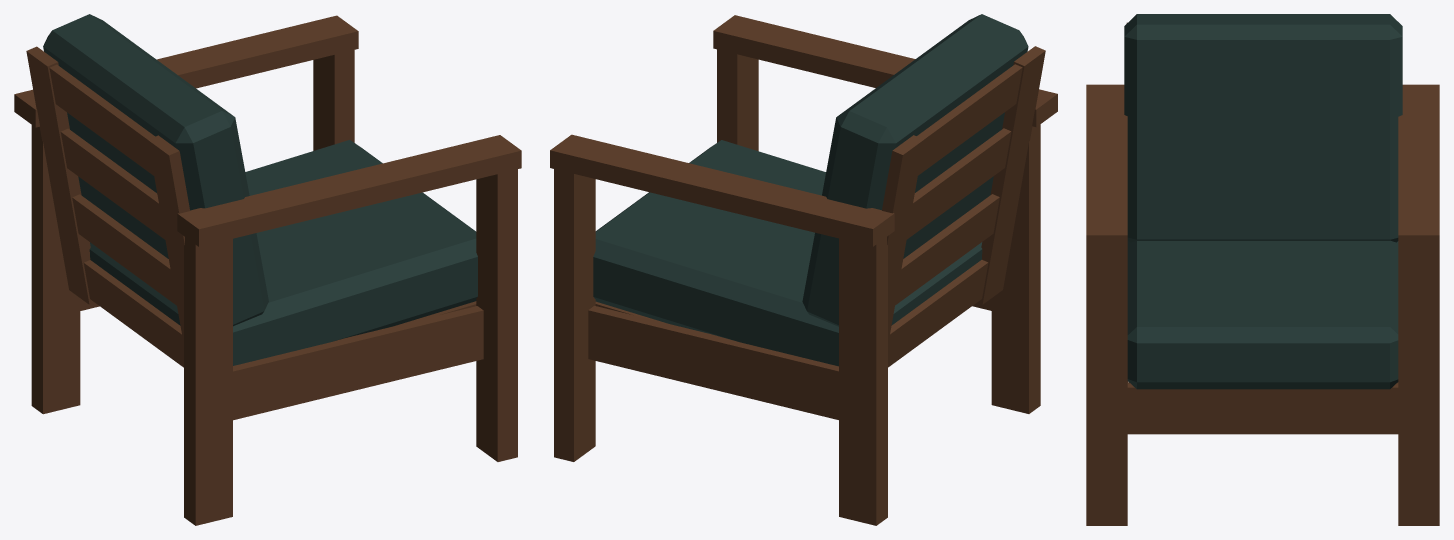
Rendered from SM_Armachair_03.glb.
The picture shows the model from 3 angles, left to right: view 1: azimuth 30°, elevation 25°; view 2: azimuth 150°, elevation 25°; view 3: azimuth 270°, elevation 25°; orthographic projection. The views are drawn at different scales.
Parts seen in each view (by area): view 1: SM_Armachair_03; view 2: SM_Armachair_03; view 3: SM_Armachair_03.
Boxes of the visible parts, x1,y1,x2,y2 form: SM_Armachair_03: (14, 14, 521, 525); SM_Armachair_03: (550, 14, 1057, 525); SM_Armachair_03: (1086, 14, 1439, 525).
Size of the model in its own units: 0.9072 by 1.02 by 0.8712.
Materials: 2 (1 with a texture image).
